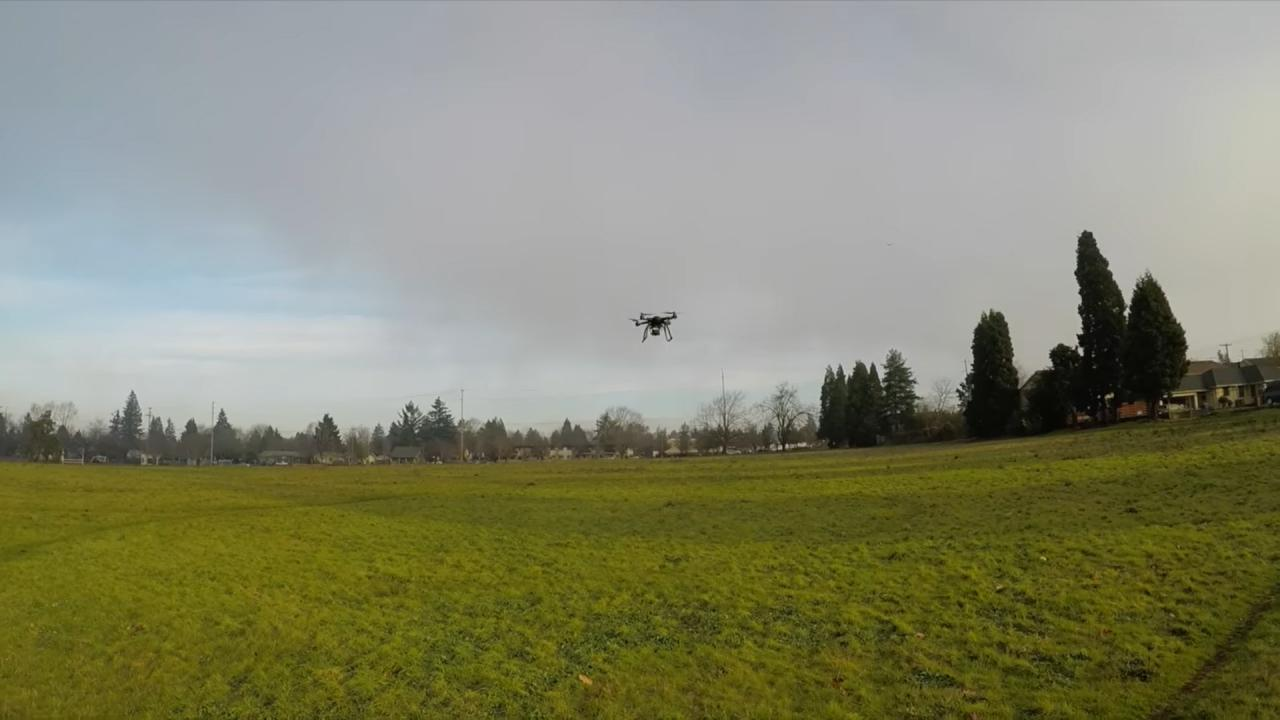Drone: (621, 302, 692, 352)
